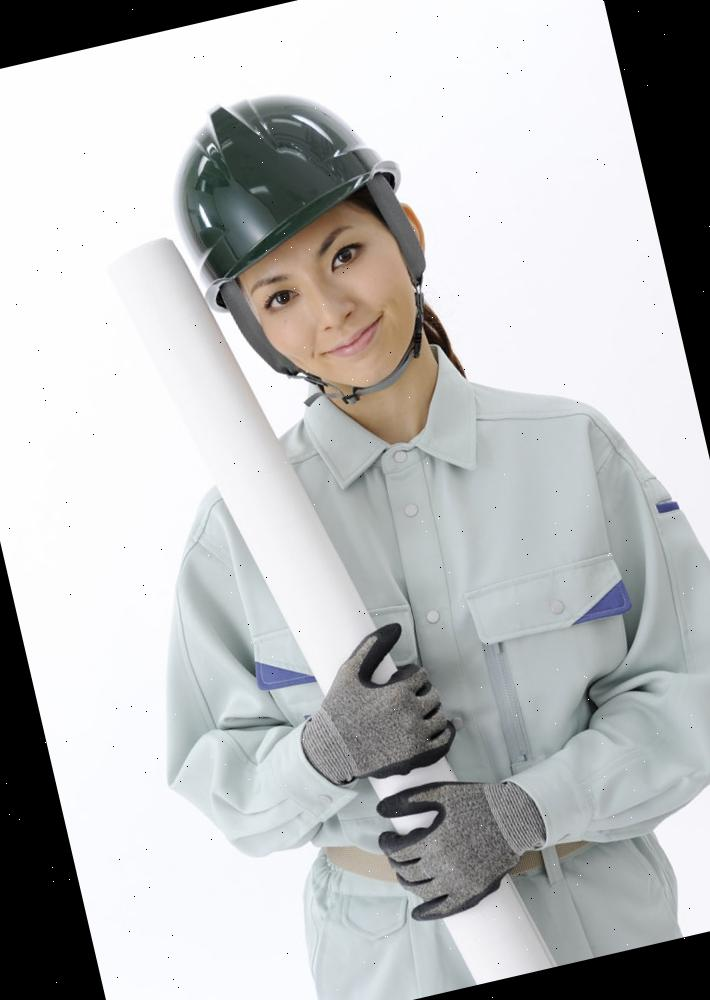helmet: (151, 69, 410, 288)
